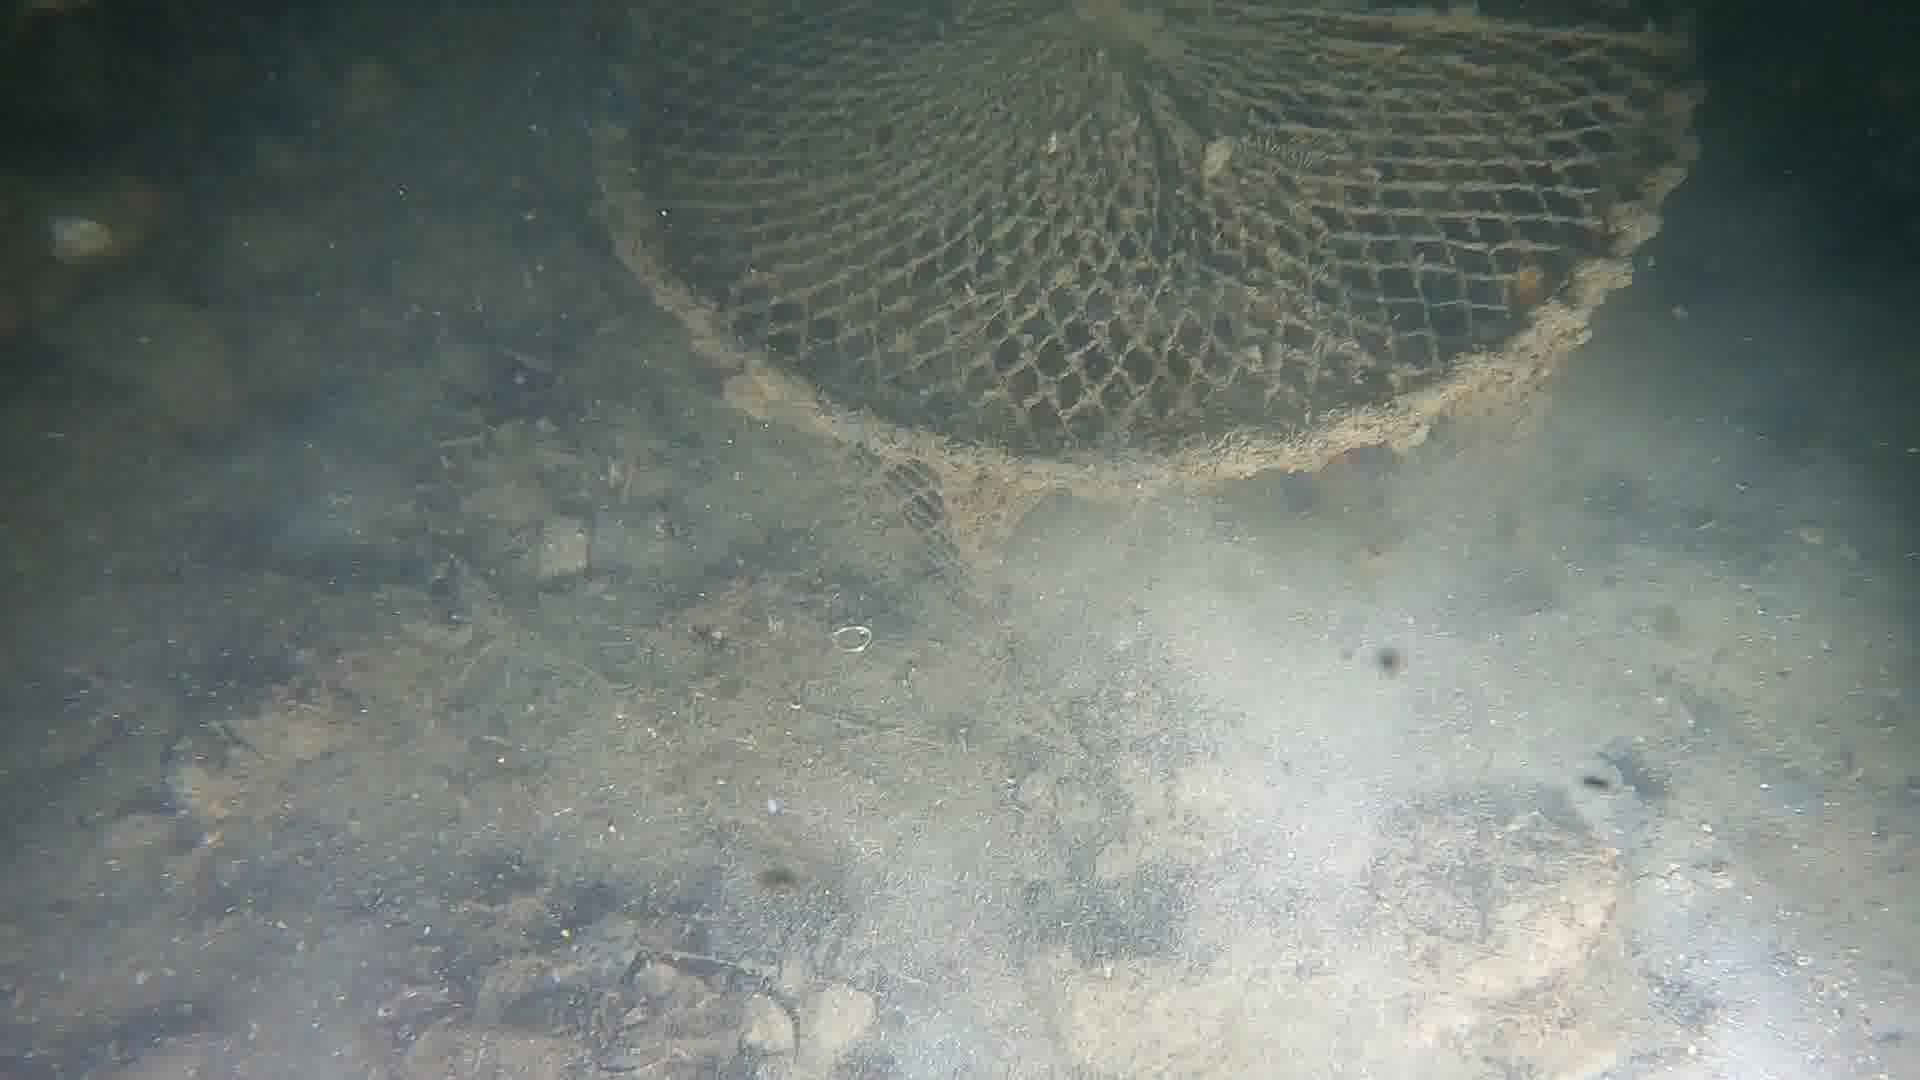circular fish trap: (589, 0, 1708, 492)
